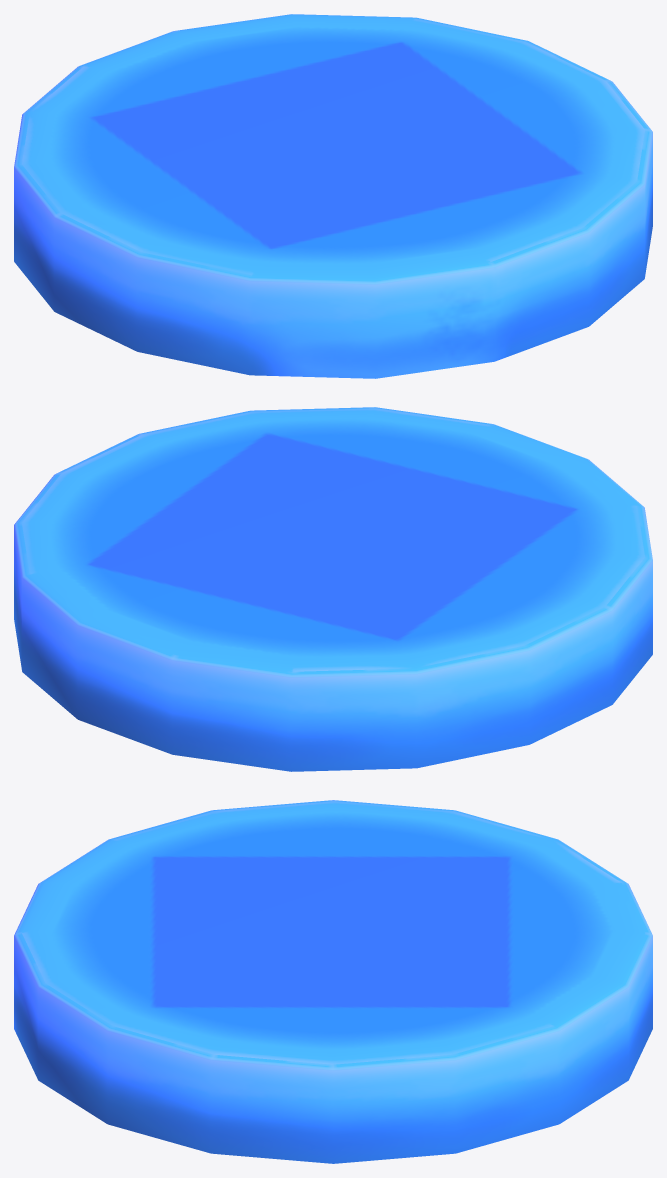
File: ButtonPressSquare.glb
The picture shows the model from 3 angles, top to bottom: view 1: azimuth 30°, elevation 25°; view 2: azimuth 150°, elevation 25°; view 3: azimuth 270°, elevation 25°; orthographic projection.
Parts seen in each view (by area): view 1: Cube.013; view 2: Cube.013; view 3: Cube.013.
Boxes of the visible parts, x1=… form: Cube.013: x1=14, y1=14, x2=652, y2=378; Cube.013: x1=14, y1=407, x2=652, y2=771; Cube.013: x1=14, y1=800, x2=652, y2=1163.
Bounding box in the file's own units: 1.4 × 0.2363 × 1.4.
Materials: 1 (1 with a texture image).
